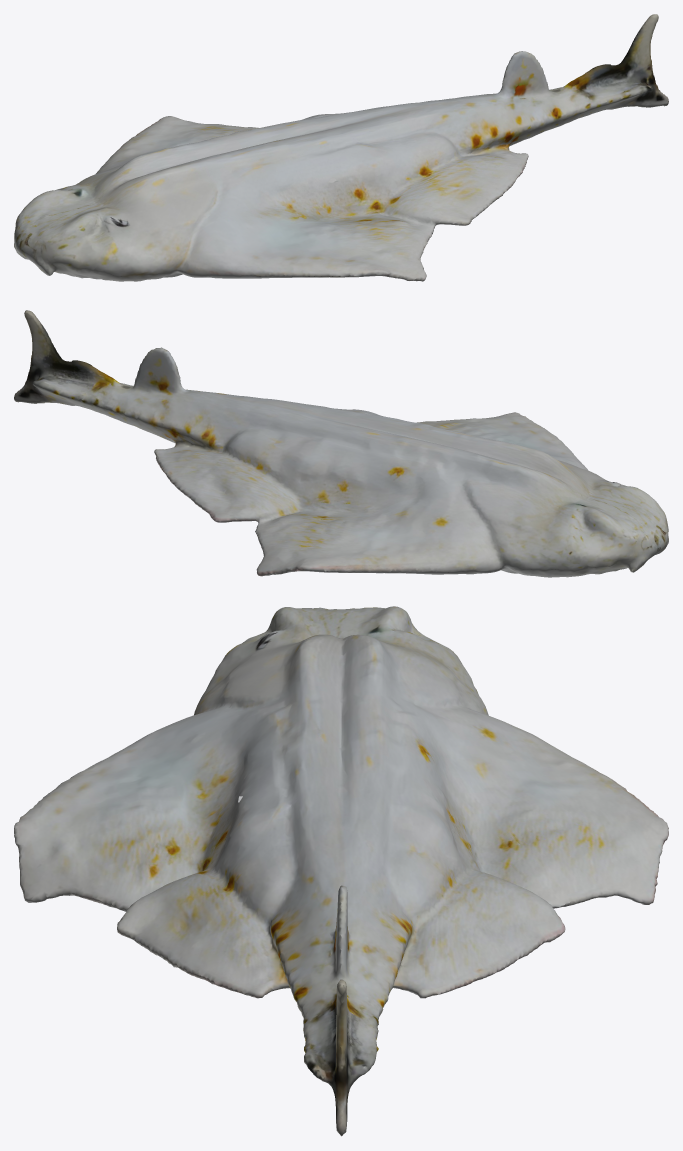
Rendered from tubarao.glb.
3 renders of one model, top to bottom at view 1: azimuth 30°, elevation 25°; view 2: azimuth 150°, elevation 25°; view 3: azimuth 270°, elevation 25°, orthographic. The views are drawn at different scales.
Parts seen in each view (by area): view 1: tubarao-anjo; view 2: tubarao-anjo; view 3: tubarao-anjo.
Part boxes in pixels (x1,y1,x2,y2): tubarao-anjo: [14, 14, 668, 281]; tubarao-anjo: [14, 310, 668, 577]; tubarao-anjo: [14, 606, 668, 1136].
Size of the model in its own units: 1.2 by 0.2162 by 0.6758.
Materials: 1 (1 with a texture image).
